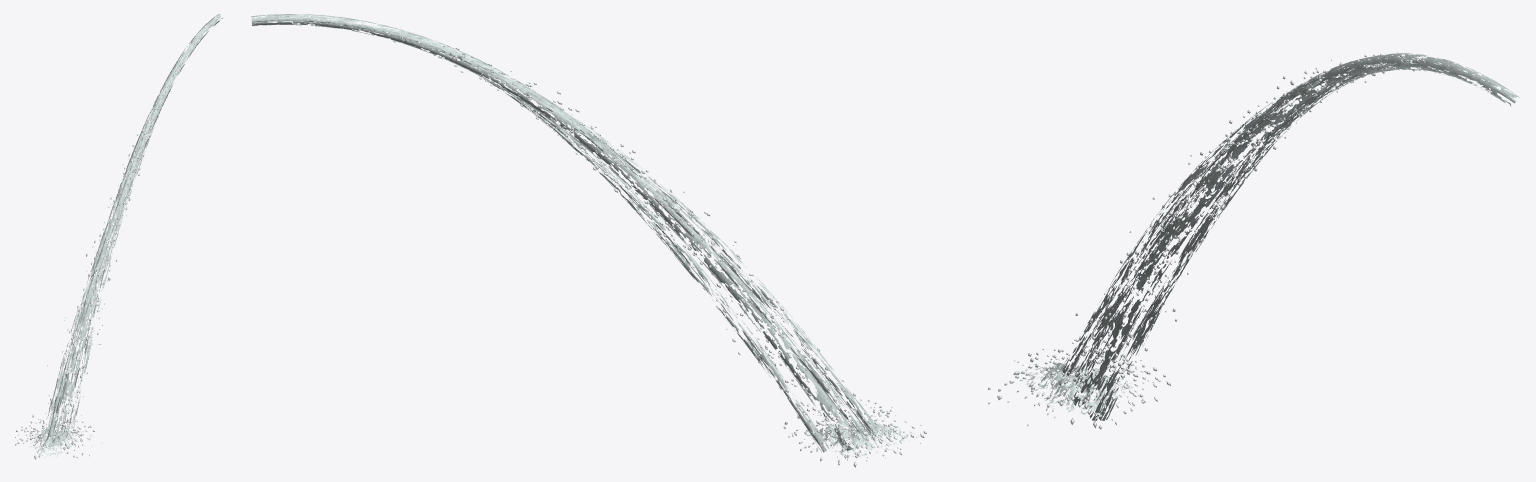
3 renders of one model, left to right at view 1: azimuth 30°, elevation 25°; view 2: azimuth 150°, elevation 25°; view 3: azimuth 270°, elevation 25°, orthographic. The views are drawn at different scales.
Parts seen in each view (by area): view 1: Aerated fountain jet, Fountain droplets, Fountain impact foam; view 2: Aerated fountain jet, Fountain droplets, Fountain impact foam; view 3: Aerated fountain jet, Fountain droplets, Fountain impact foam.
Part boxes in pixels (x1=…): Aerated fountain jet: x1=43, y1=14, x2=222, y2=448; Fountain droplets: x1=15, y1=57, x2=184, y2=459; Fountain impact foam: x1=30, y1=428, x2=77, y2=457; Aerated fountain jet: x1=251, y1=14, x2=882, y2=452; Fountain droplets: x1=382, y1=31, x2=926, y2=467; Fountain impact foam: x1=805, y1=420, x2=919, y2=457; Aerated fountain jet: x1=1059, y1=53, x2=1519, y2=420; Fountain droplets: x1=987, y1=52, x2=1422, y2=429; Fountain impact foam: x1=1019, y1=362, x2=1131, y2=418.
Size of the model in its own units: 11.91 by 10.2 by 8.6.
Materials: 3 (2 with a texture image).
